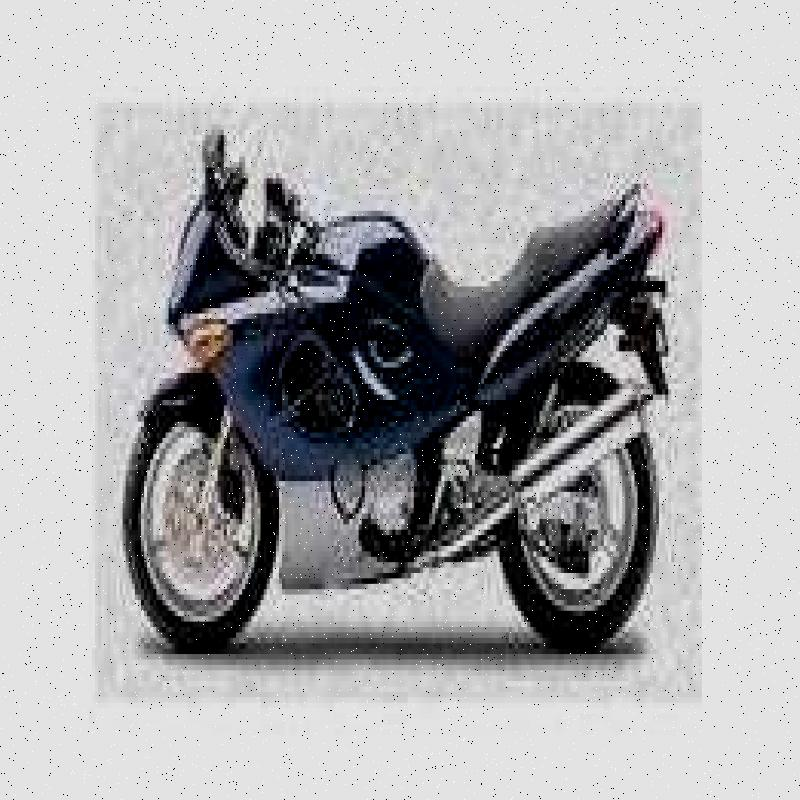bike: (91, 77, 702, 662)
